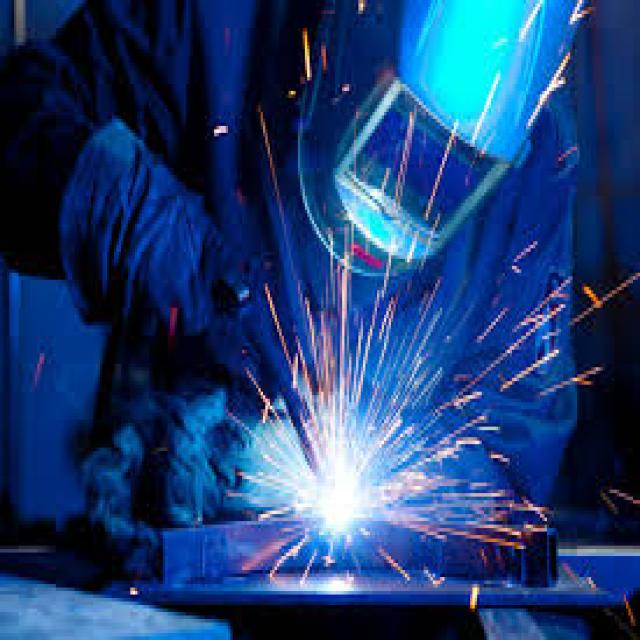welding: (317, 462, 356, 526)
